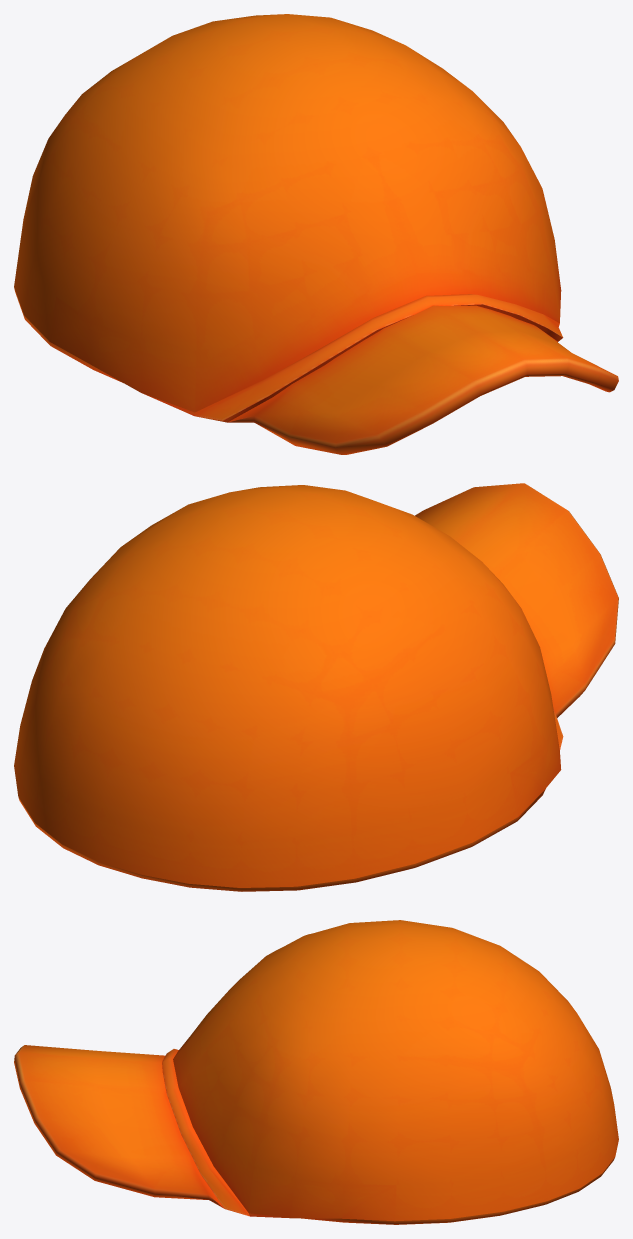
File: Cashier_Hat.glb
3 views of the same model, one above another, from view 1: azimuth 30°, elevation 25°; view 2: azimuth 150°, elevation 25°; view 3: azimuth 270°, elevation 25° (orthographic). The views are drawn at different scales.
Parts seen in each view (by area): view 1: Cashier_Hat; view 2: Cashier_Hat; view 3: Cashier_Hat.
Part boxes in pixels (x1,y1,x2,y2): Cashier_Hat: [14, 14, 618, 454]; Cashier_Hat: [14, 483, 618, 891]; Cashier_Hat: [14, 920, 618, 1224].
Bounding box in the file's own units: 0.5106 × 0.2777 × 0.7289.
Materials: 1 (1 with a texture image).
